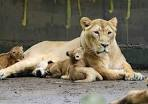lion: (13, 11, 143, 87)
